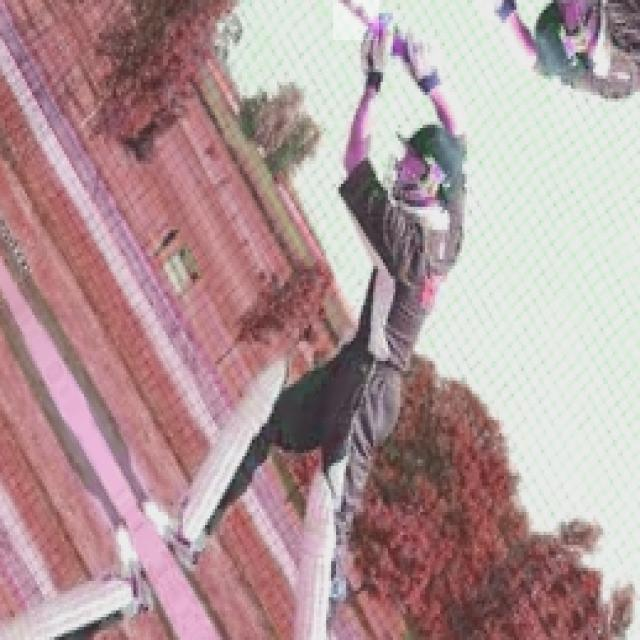bat: (331, 0, 376, 38)
